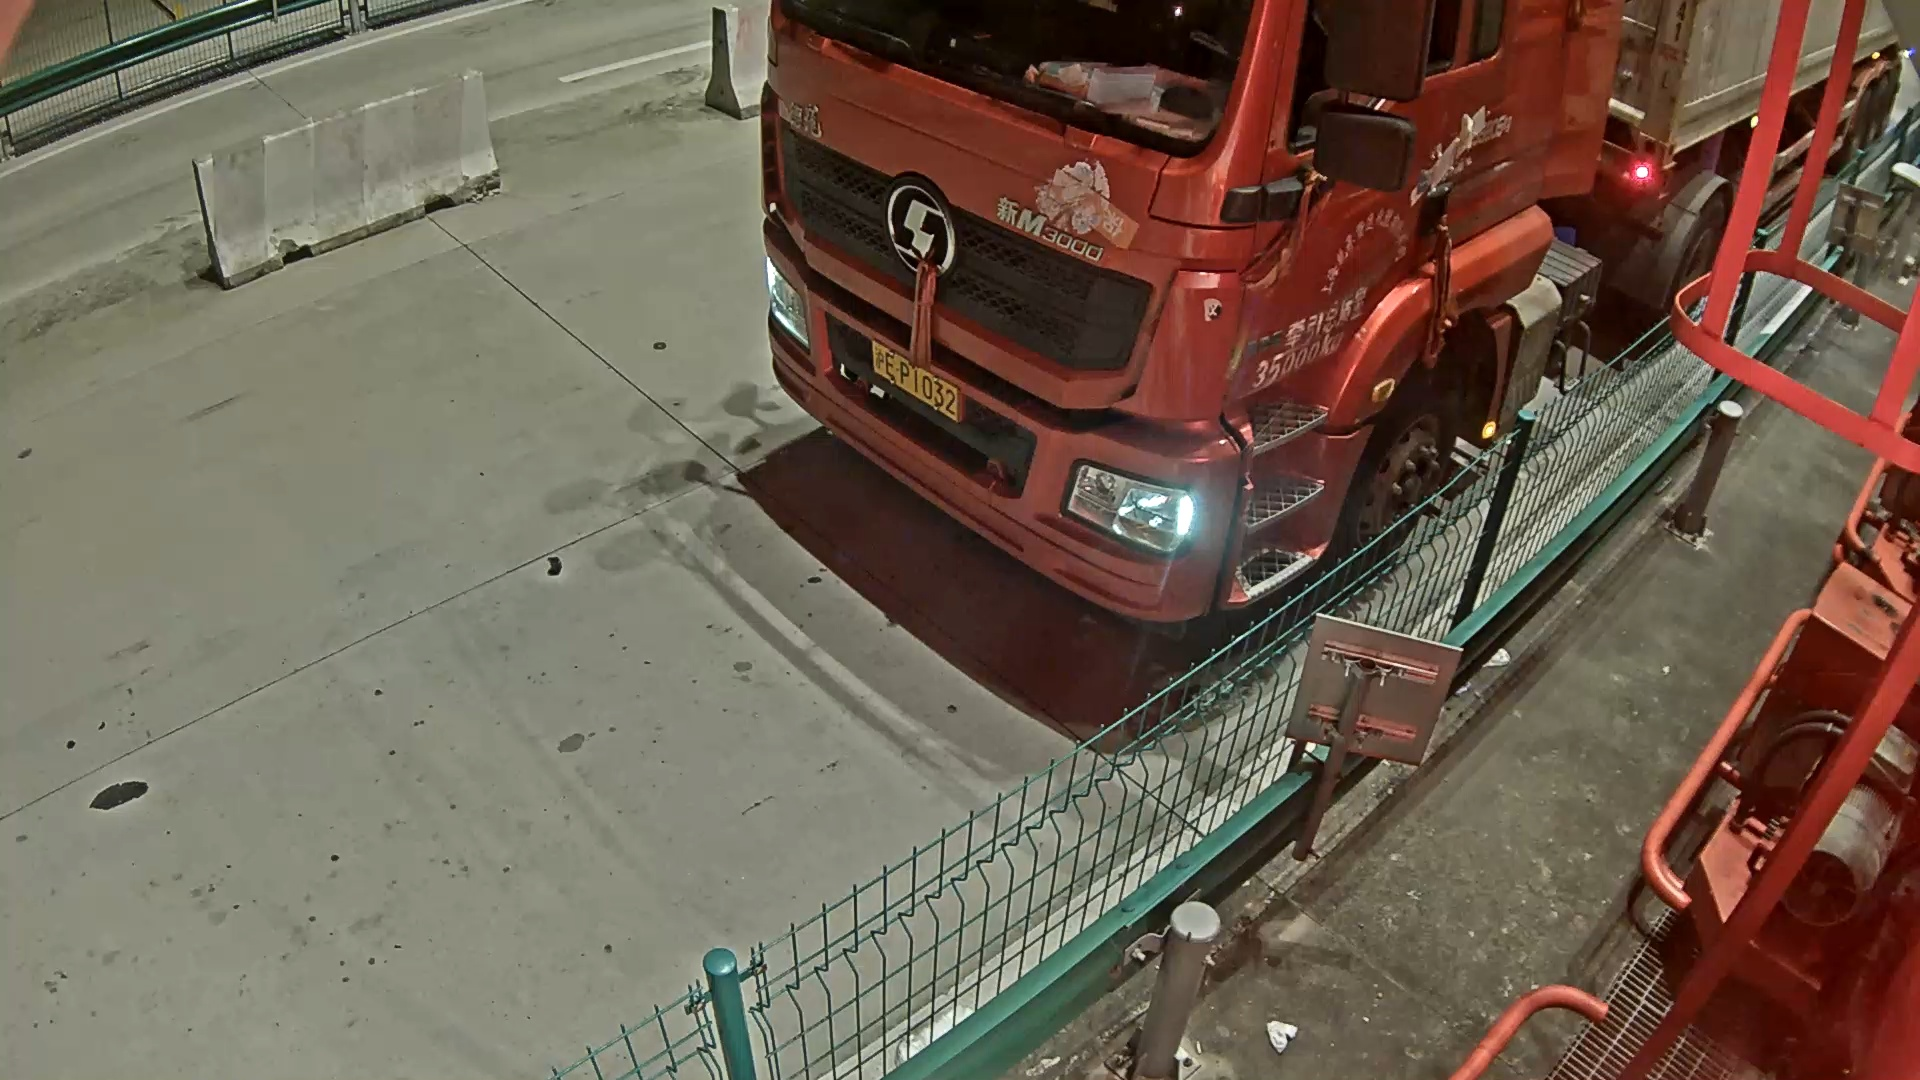head: (766, 17, 1364, 636)
plate: (866, 339, 979, 417)
